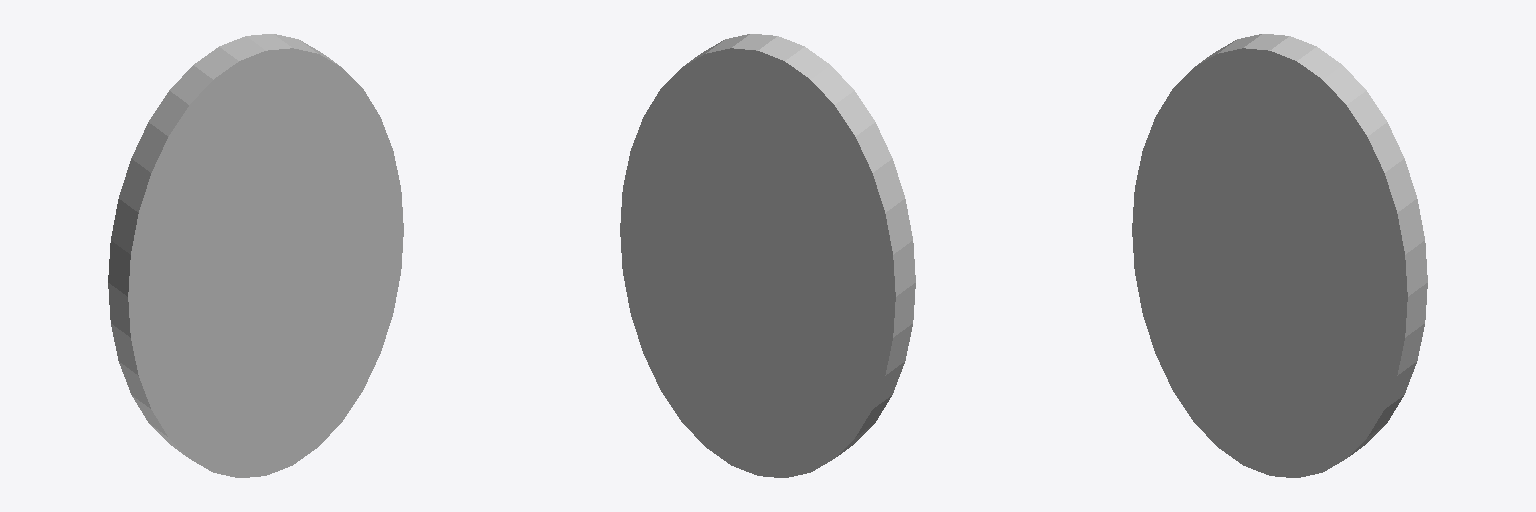
File: balloon_shield.obj
The picture shows the model from 3 angles: view 1: azimuth 30°, elevation 25°; view 2: azimuth 150°, elevation 25°; view 3: azimuth 330°, elevation 25°; orthographic projection.
Parts seen in each view (by area): view 1: Cylinder; view 2: Cylinder; view 3: Cylinder.
Boxes of the visible parts, box(x1,y1,x2,y2) form: Cylinder: box(108, 34, 403, 477); Cylinder: box(620, 34, 915, 477); Cylinder: box(1132, 34, 1427, 477).
Bounding box in the file's own units: 1.74 × 2.56 × 0.2192.